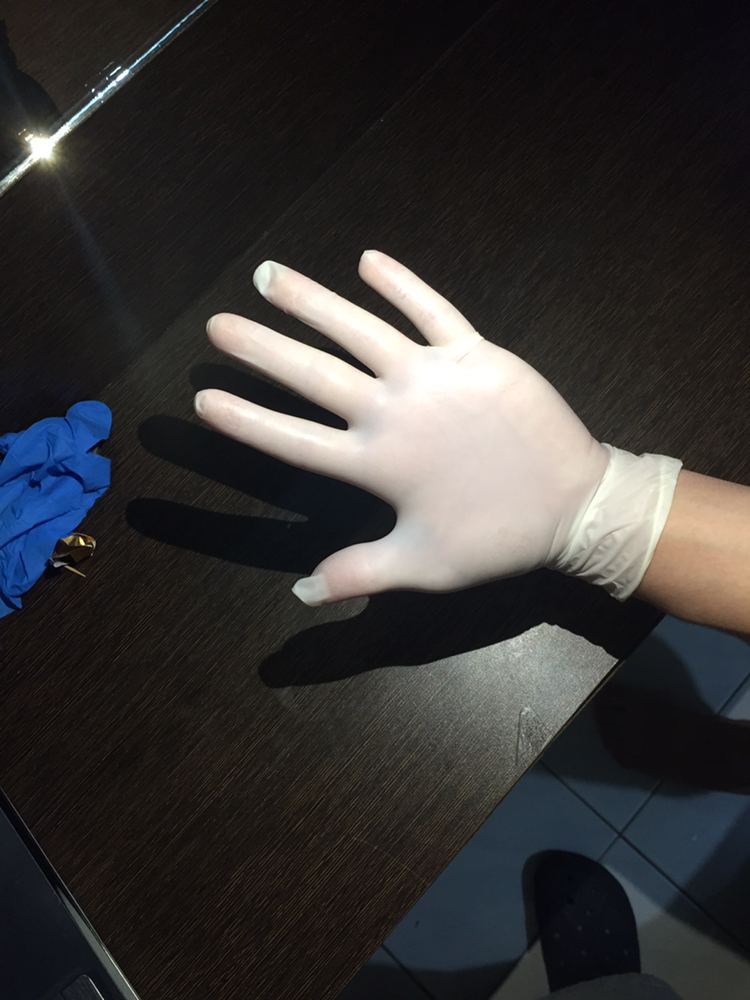glove: (197, 227, 601, 695)
